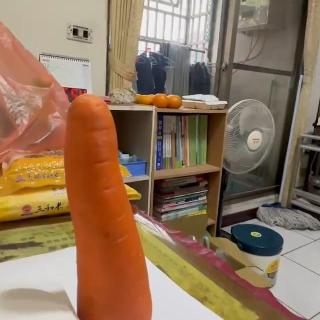carrot: (65, 95, 154, 320)
